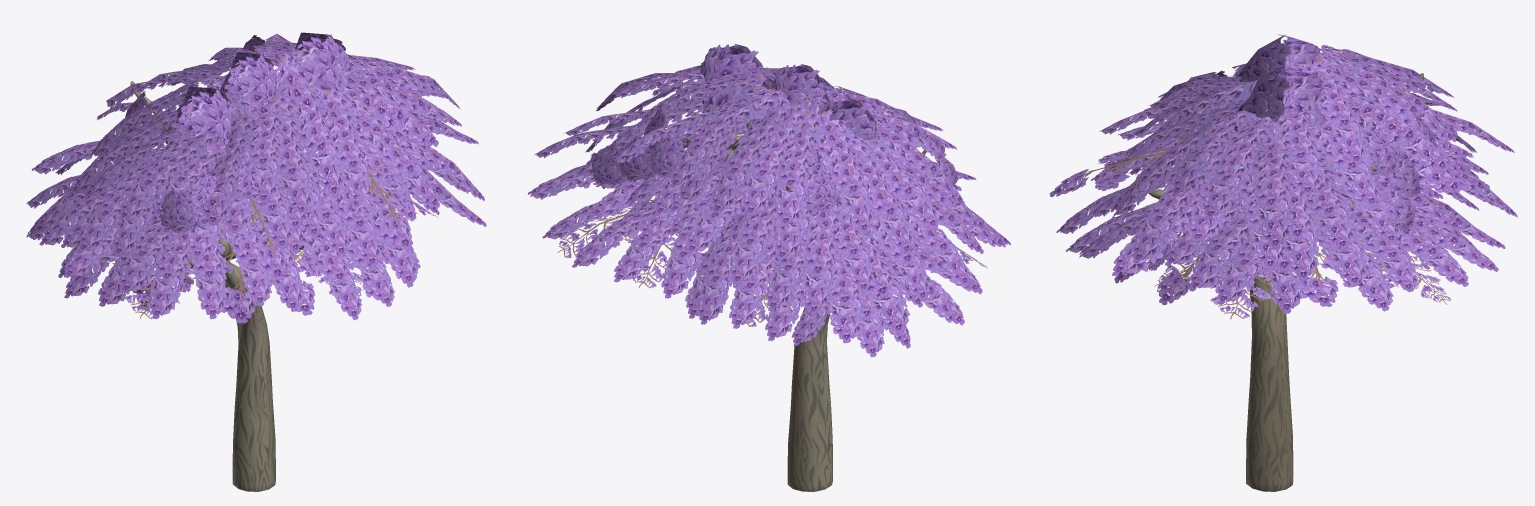
Rendered from JacarandaESPOL.fbx.
3 renders of one model, left to right at view 1: azimuth 30°, elevation 25°; view 2: azimuth 150°, elevation 25°; view 3: azimuth 270°, elevation 25°, orthographic. The views are drawn at different scales.
Parts seen in each view (by area): view 1: Tronco, Petalo3_69, Petalo3_63, Petalo3_90, Petalo3_48, Petalo3_75, Petalo3_71, Petalo2_30, Petalo2_32, Petalo3_60, Petalo2_24, Petalo3_58 (+43 smaller); view 2: Tronco, Petalo3_41, Petalo3_1, Petalo3_95, Petalo3_34, Petalo3_38, Petalo3_39, Petalo3_36, Petalo3_16, Petalo3_96, Petalo3_32, Petalo3_42 (+49 smaller); view 3: Tronco, Petalo3_68, Petalo3_46, Petalo3_7, Petalo3_86, Petalo3_6, Petalo3_82, Petalo3_72, Petalo3_1, Petalo3_89, Petalo3_80, Petalo3_62 (+44 smaller).
Part boxes in pixels (<box>): Tronco: <box>89,81,327,491</box>; Petalo3_69: <box>272,53,343,197</box>; Petalo3_63: <box>312,88,371,200</box>; Petalo3_90: <box>119,131,222,220</box>; Petalo3_48: <box>340,100,439,209</box>; Petalo3_75: <box>267,94,313,214</box>; Petalo3_71: <box>201,114,259,225</box>; Petalo2_30: <box>224,54,276,118</box>; Petalo2_32: <box>171,89,236,159</box>; Petalo3_60: <box>247,96,288,203</box>; Petalo2_24: <box>288,34,352,95</box>; Petalo3_58: <box>148,214,204,319</box>; Tronco: <box>687,97,935,491</box>; Petalo3_41: <box>807,110,873,234</box>; Petalo3_1: <box>670,84,789,187</box>; Petalo3_95: <box>774,111,828,226</box>; Petalo3_34: <box>800,189,846,315</box>; Petalo3_38: <box>710,99,796,214</box>; Petalo3_39: <box>741,103,810,216</box>; Petalo3_36: <box>846,138,913,255</box>; Petalo3_16: <box>696,203,747,324</box>; Petalo3_96: <box>837,225,910,334</box>; Petalo3_32: <box>728,175,788,284</box>; Petalo3_42: <box>859,138,938,229</box>; Tronco: <box>1136,70,1423,491</box>; Petalo3_68: <box>1249,134,1296,249</box>; Petalo3_46: <box>1201,109,1279,219</box>; Petalo3_7: <box>1336,92,1448,171</box>; Petalo3_86: <box>1131,147,1224,263</box>; Petalo3_6: <box>1292,62,1366,164</box>; Petalo3_82: <box>1269,98,1322,195</box>; Petalo3_72: <box>1306,152,1356,249</box>; Petalo3_1: <box>1316,54,1456,142</box>; Petalo3_89: <box>1275,158,1318,281</box>; Petalo3_80: <box>1189,205,1253,291</box>; Petalo3_62: <box>1171,98,1255,195</box>.
Size of the model in its own units: 2942 by 2805 by 2664.
Materials: 2 (2 with a texture image).
